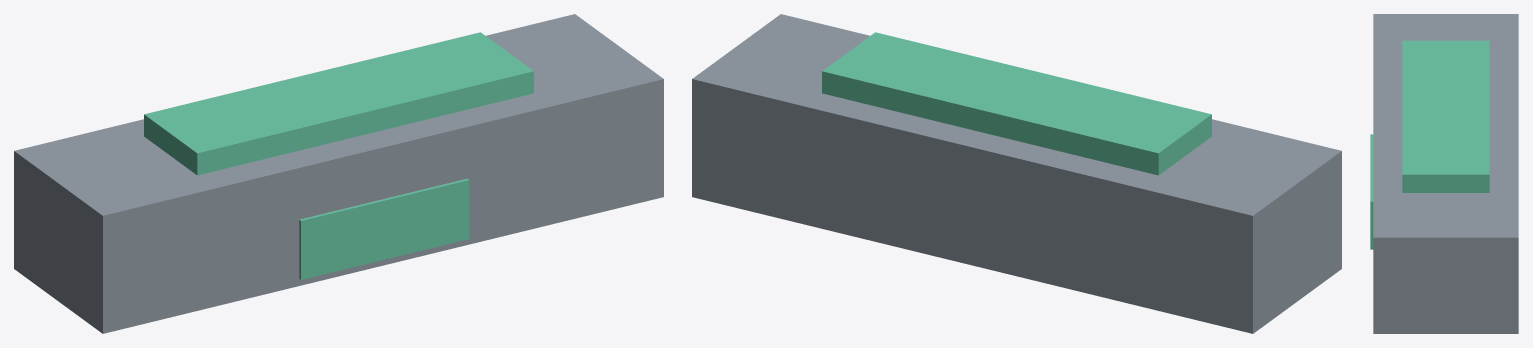
The model's file is SM_Coalition_CO_XuanwuCruiser_Blockout.fbx.
3 renders of one model, left to right at view 1: azimuth 30°, elevation 25°; view 2: azimuth 150°, elevation 25°; view 3: azimuth 270°, elevation 25°, orthographic. The views are drawn at different scales.
Visible parts, largest first — view 1: MainBuilding, RoofStructure, EntranceGate; view 2: MainBuilding, RoofStructure; view 3: MainBuilding, RoofStructure, EntranceGate.
Part boxes in pixels (<box>): MainBuilding: <box>14,14,663,333</box>; RoofStructure: <box>144,32,533,175</box>; EntranceGate: <box>299,178,469,279</box>; MainBuilding: <box>692,14,1341,333</box>; RoofStructure: <box>822,32,1211,175</box>; MainBuilding: <box>1373,14,1518,333</box>; RoofStructure: <box>1402,40,1489,192</box>; EntranceGate: <box>1370,134,1373,249</box>.
Size of the model in its own units: 1750 by 418 by 490.
